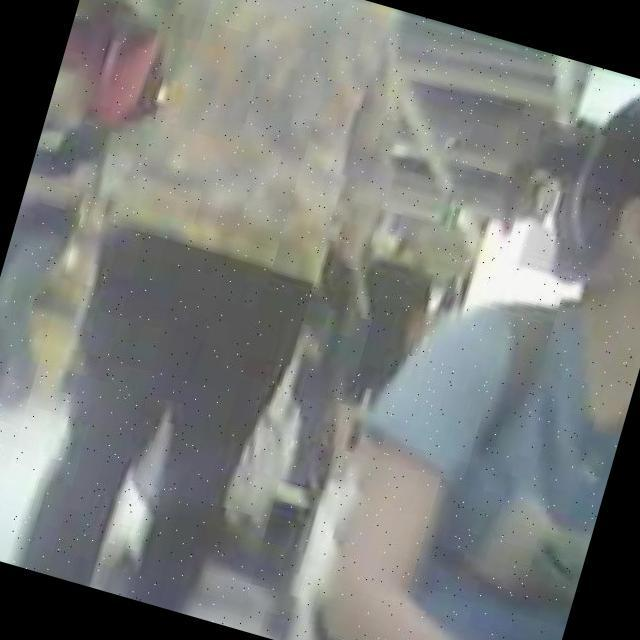person: (0, 0, 432, 634), (276, 25, 640, 640), (0, 53, 138, 416)
